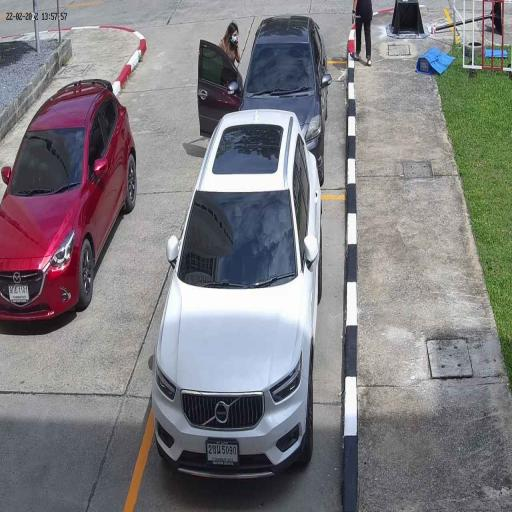car: (153, 108, 322, 486), (0, 78, 138, 324), (237, 14, 329, 184)
